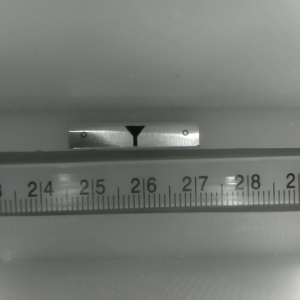2: (129, 177, 140, 193), (26, 181, 37, 197), (285, 172, 295, 189), (181, 176, 192, 191), (232, 175, 243, 190), (79, 179, 89, 195)
4: (43, 180, 53, 196)
5: (95, 179, 105, 195)
6: (146, 177, 156, 193)
7: (198, 176, 208, 191)
8: (250, 173, 260, 189)
finger: (122, 126, 145, 147)
